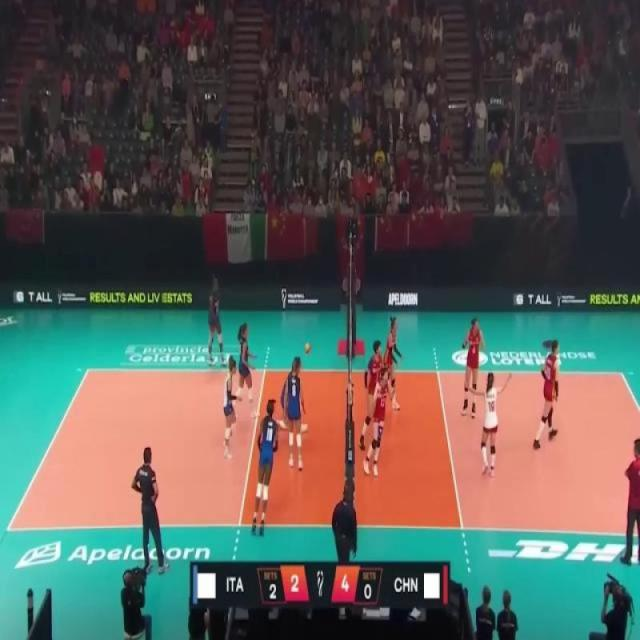volleyball: (304, 340, 312, 356)
